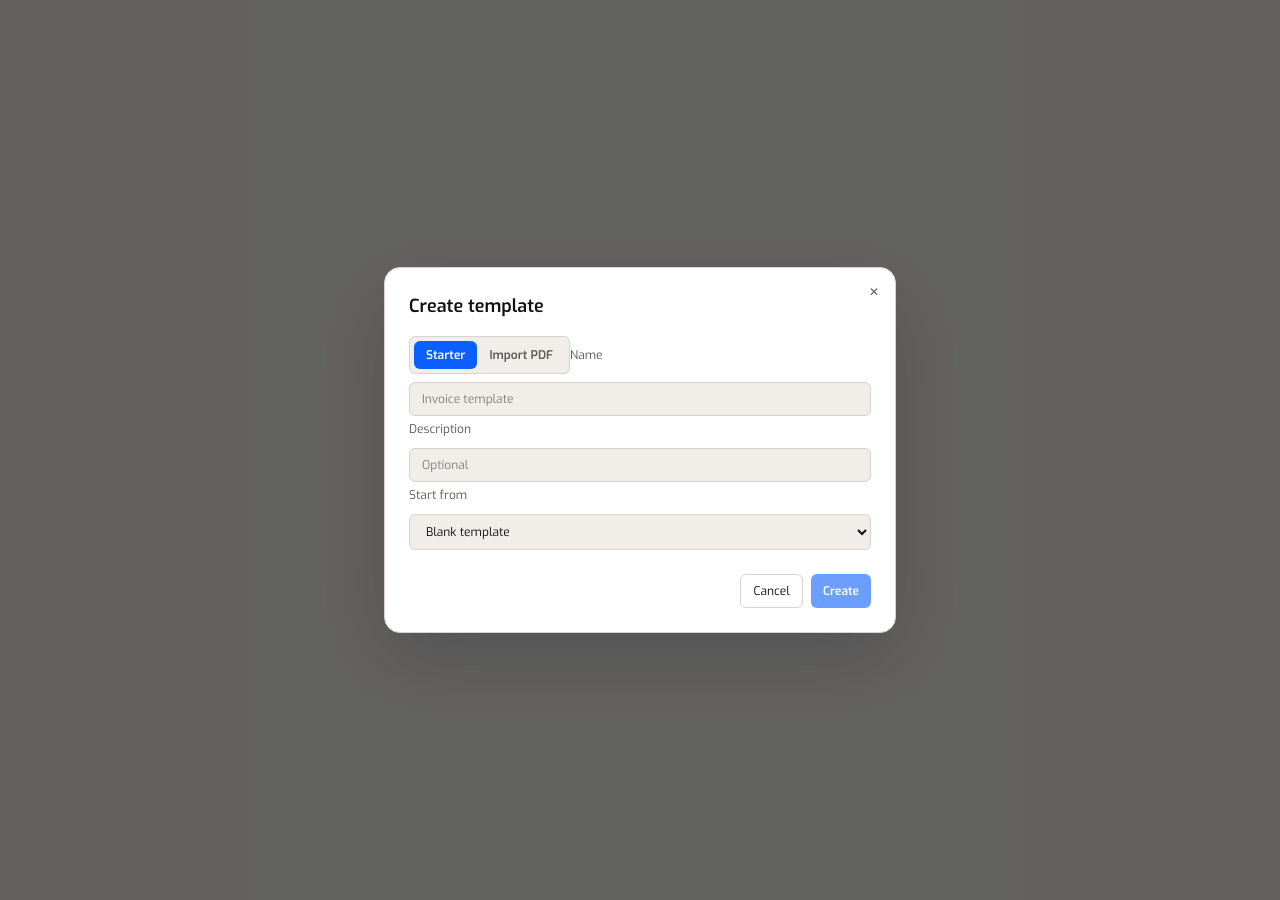
Test case: CreateTemplateDialog › disables create until name is provided
Expected: the button "Create" is disabled, [811, 574, 871, 608]
Type "Invoice" into the field with placeholder "Invoice template" at (640, 399), box [409, 382, 871, 416]
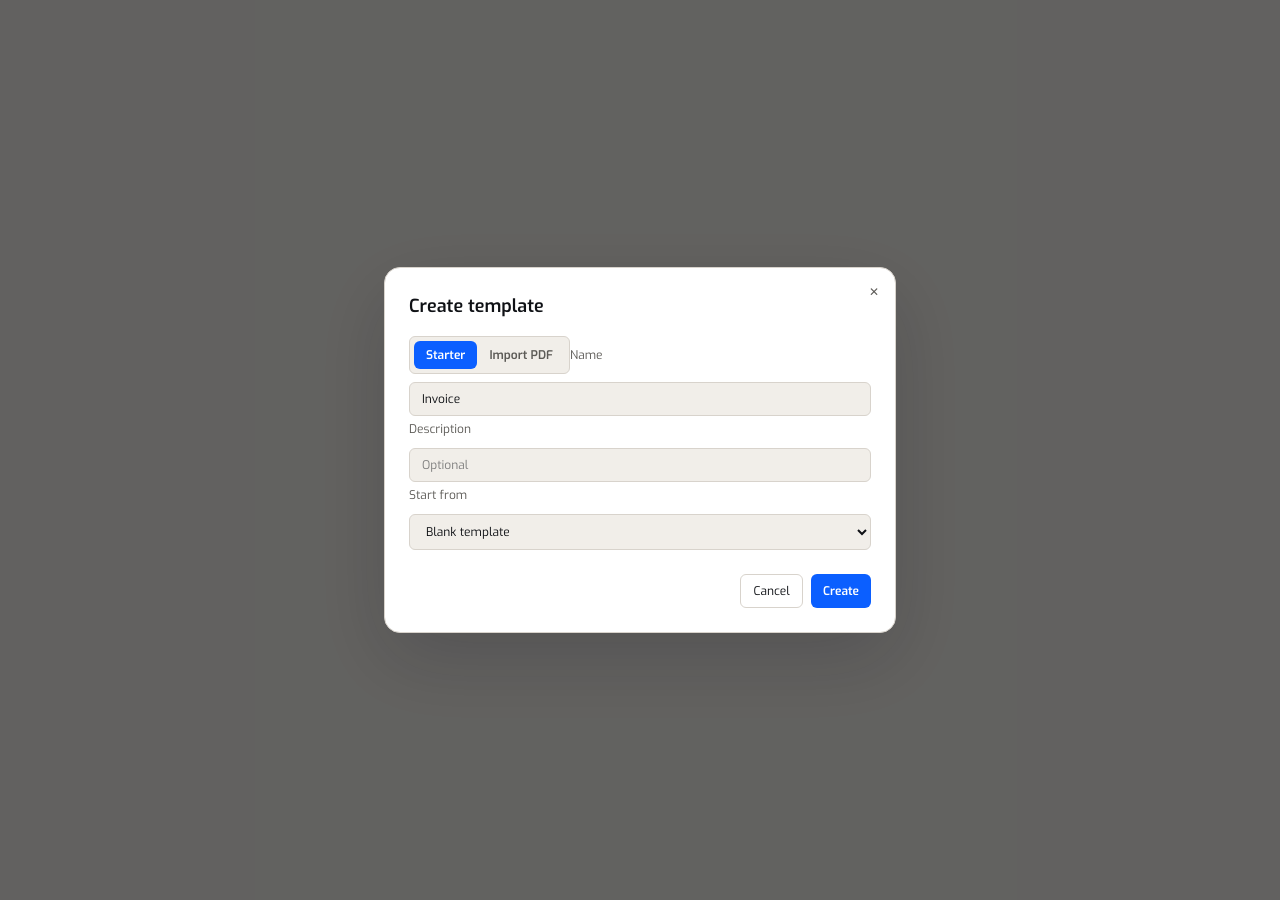
Expected: the button "Create" is enabled, [811, 574, 871, 608]
